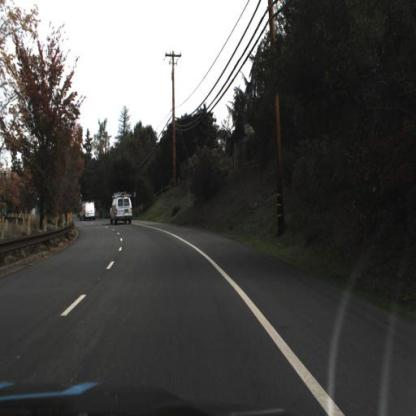car: (109, 186, 138, 228), (74, 195, 97, 222)
